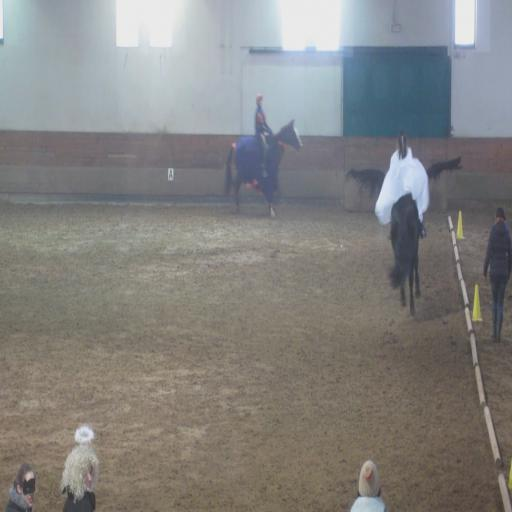horse: (223, 118, 304, 218), (388, 192, 421, 316)
